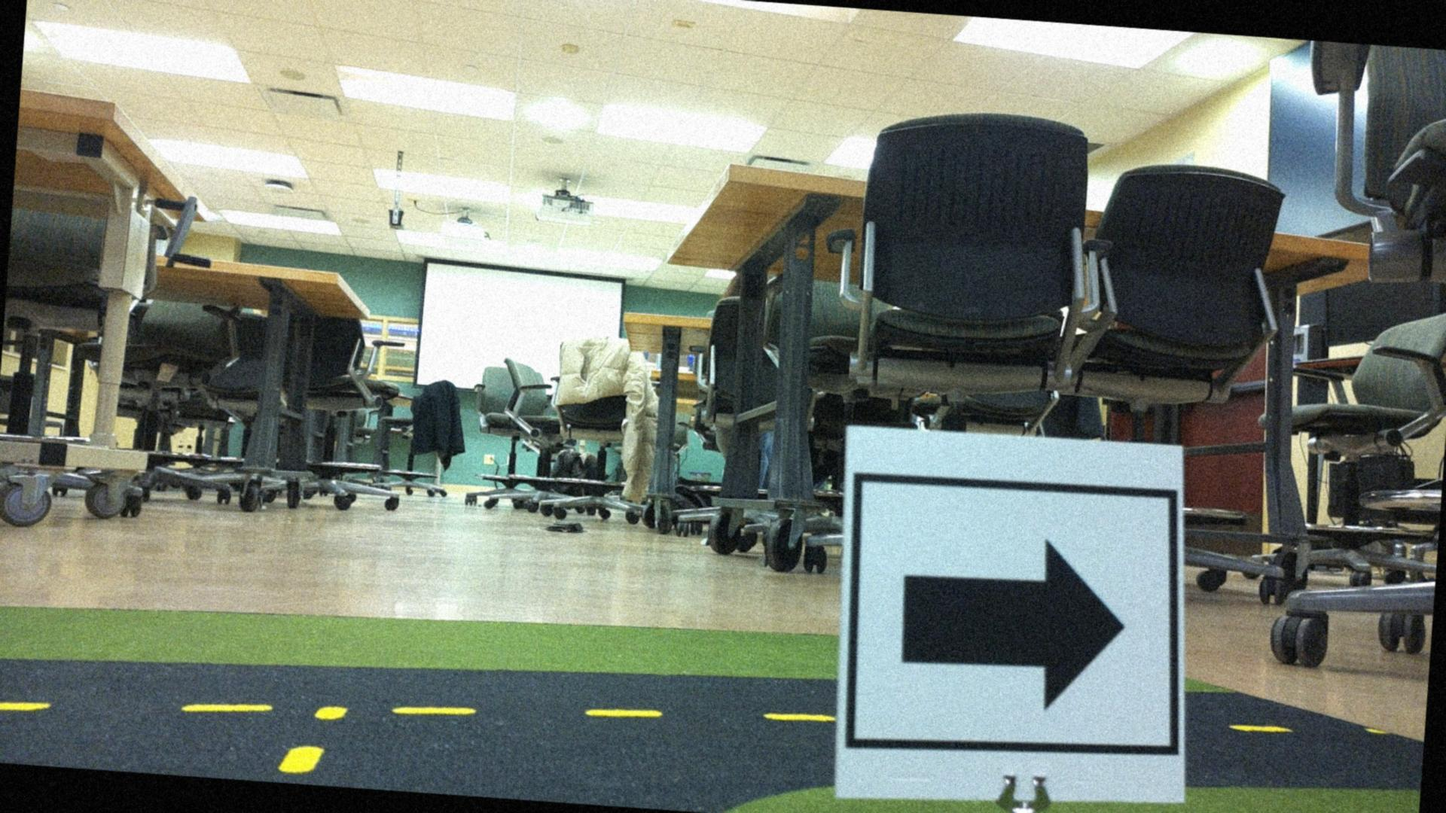turnleft: (842, 435, 1175, 767)
yellowline: (0, 653, 831, 769)
